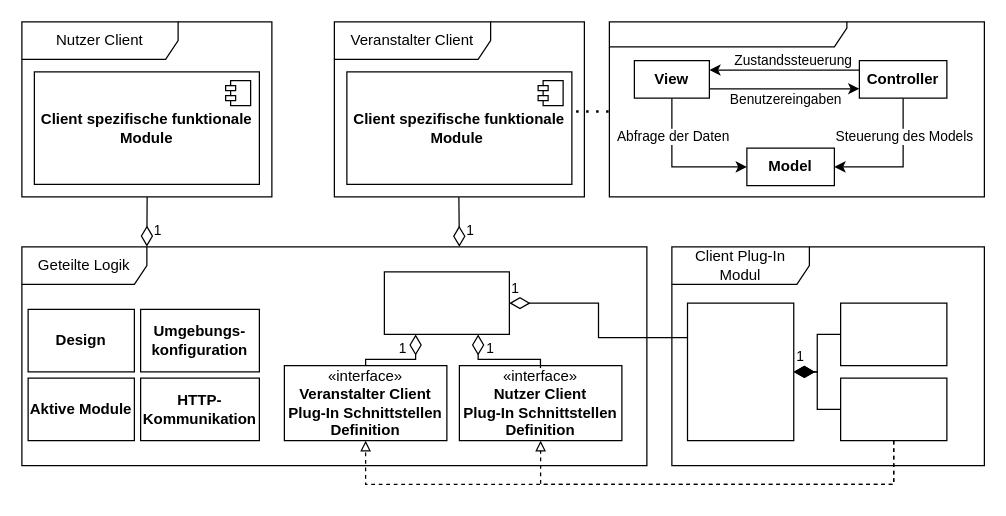
Image size: 1006x516. Some labels were removed from this diagram. Here are the shapes that lost their labels. From the top down, the centre of each, then its label:
At [796,109]: "Interner Aufbau eines Moduls".
At [446,302]: "Plug-In Manager".
At [893,334]: "HTML".
At [740,371]: "Web Komponente".
At [893,409]: "Logik".
